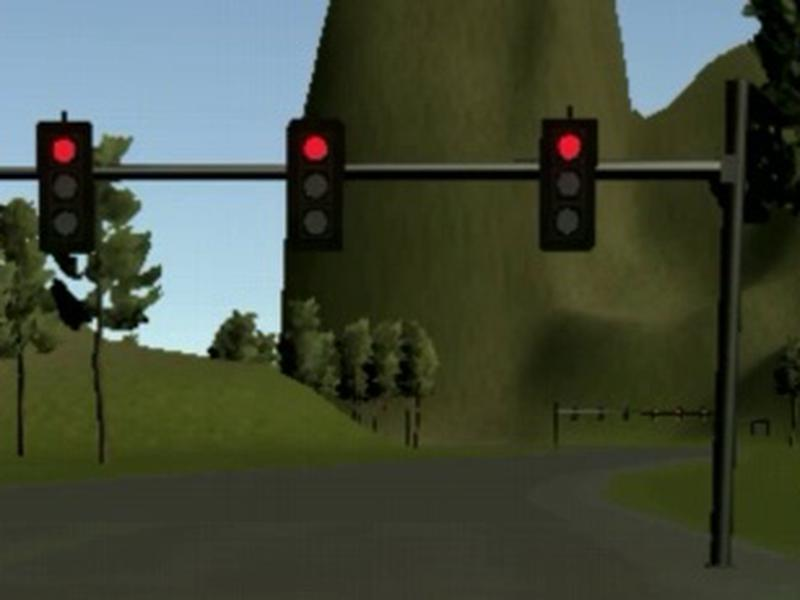Red: (37, 121, 96, 254), (288, 117, 341, 251), (544, 119, 595, 251)
